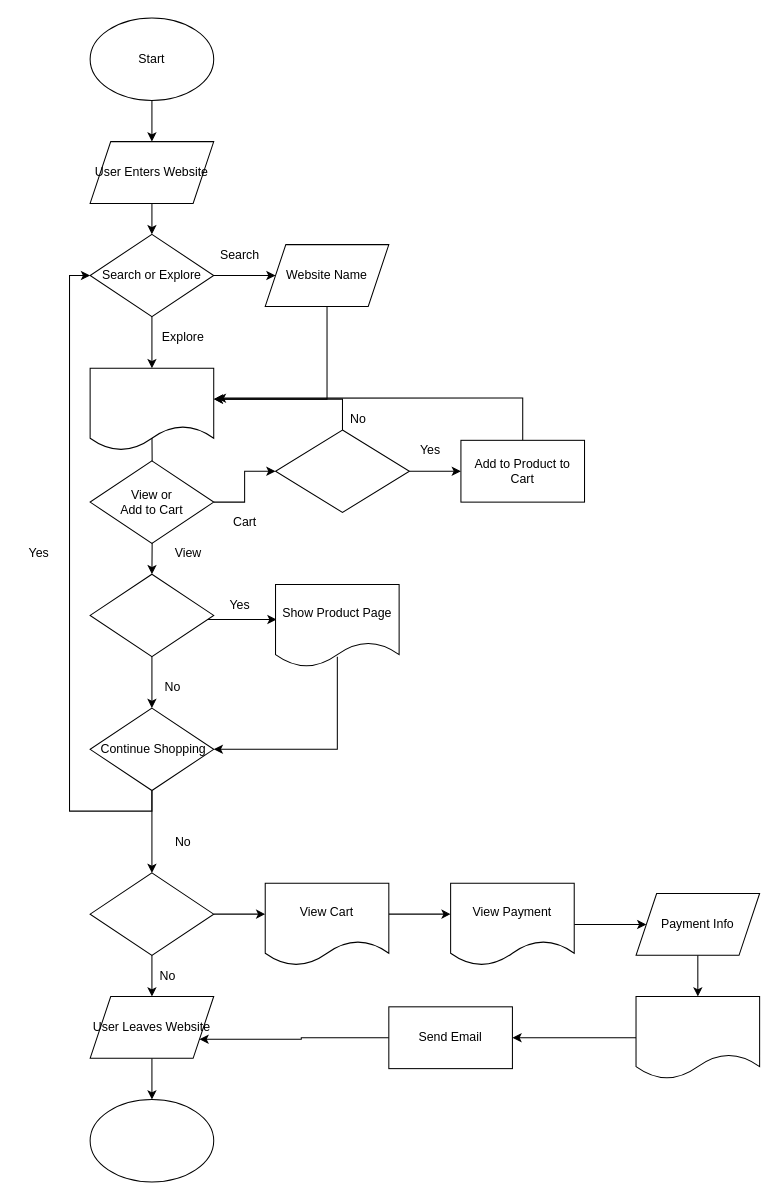
The diagram is 778 pixels wide and 1200 high, and some of its shapes have lost their labels. Here are the shapes that lost their labels. From the top down, the centre of each, then its label:
At (151,409): "Show Products".
At (341,470): "Add to Cart?".
At (151,615): "View Product".
At (151,913): "Checkout".
At (697,1037): "Order Confirmation".
At (151,1140): "End".
